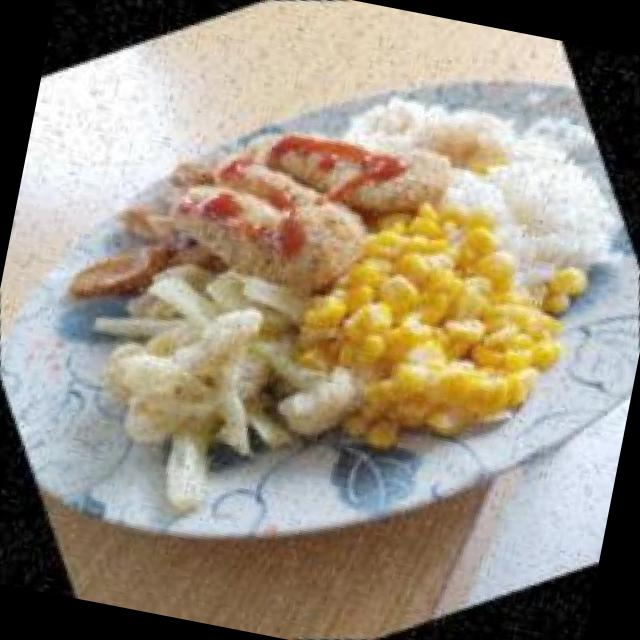rice: (410, 75, 640, 326)
